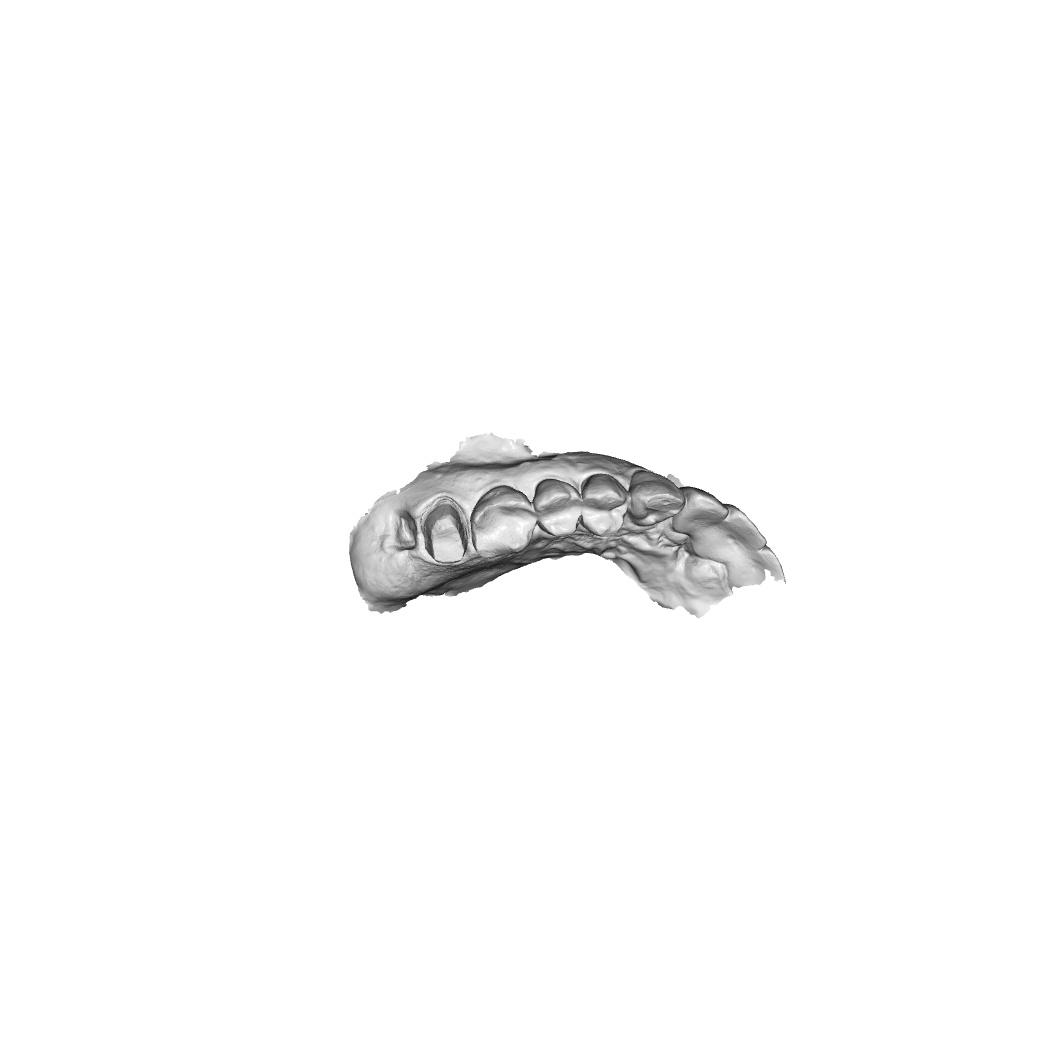canine: (628, 468, 686, 528)
crown: (420, 496, 469, 566)
incisor: (717, 502, 768, 560), (672, 486, 729, 535)
molar: (469, 484, 537, 559)
premolar: (581, 473, 629, 539), (533, 478, 582, 538)
